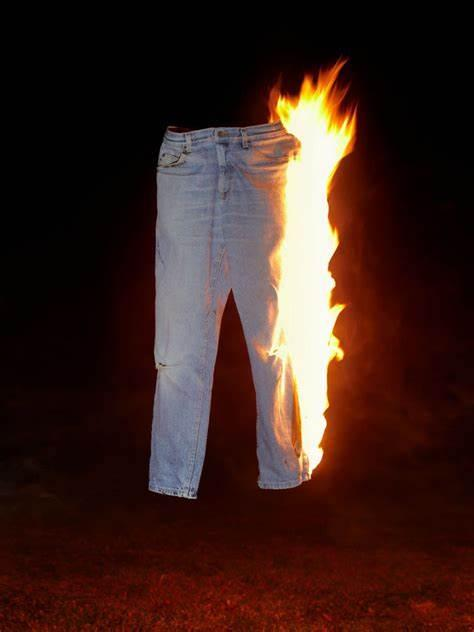Fire: (263, 53, 359, 483)
